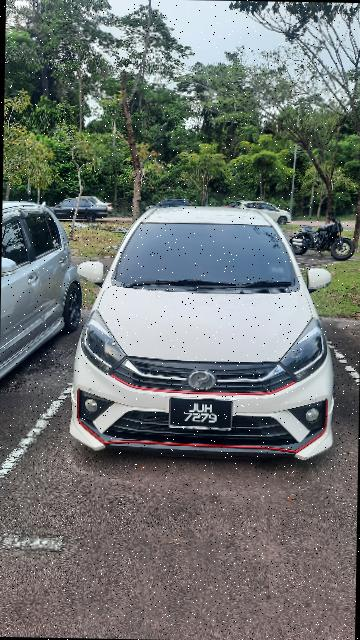License_Plate: (163, 393, 238, 438)
car: (68, 198, 341, 471)
